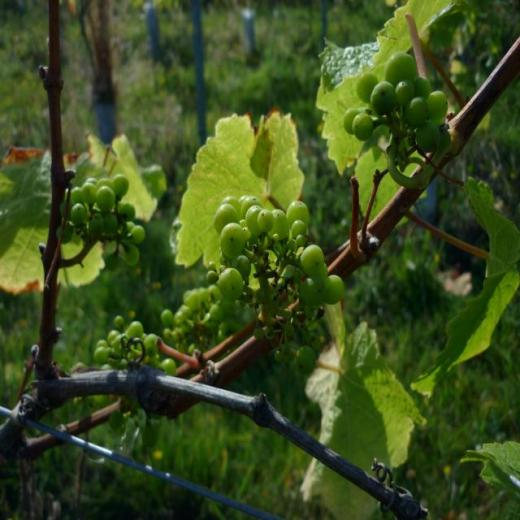Orange: (207, 194, 344, 374), (343, 50, 451, 150), (95, 316, 176, 447), (57, 175, 145, 265), (162, 286, 242, 362)
